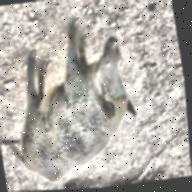boar: (0, 12, 147, 188)
